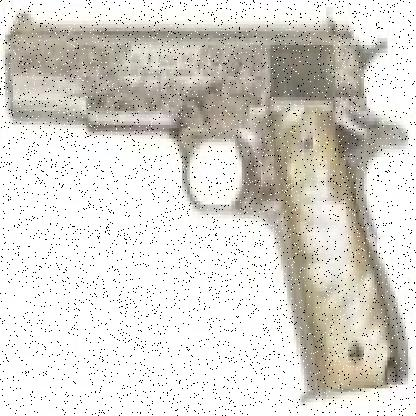pistol: (5, 10, 408, 398)
